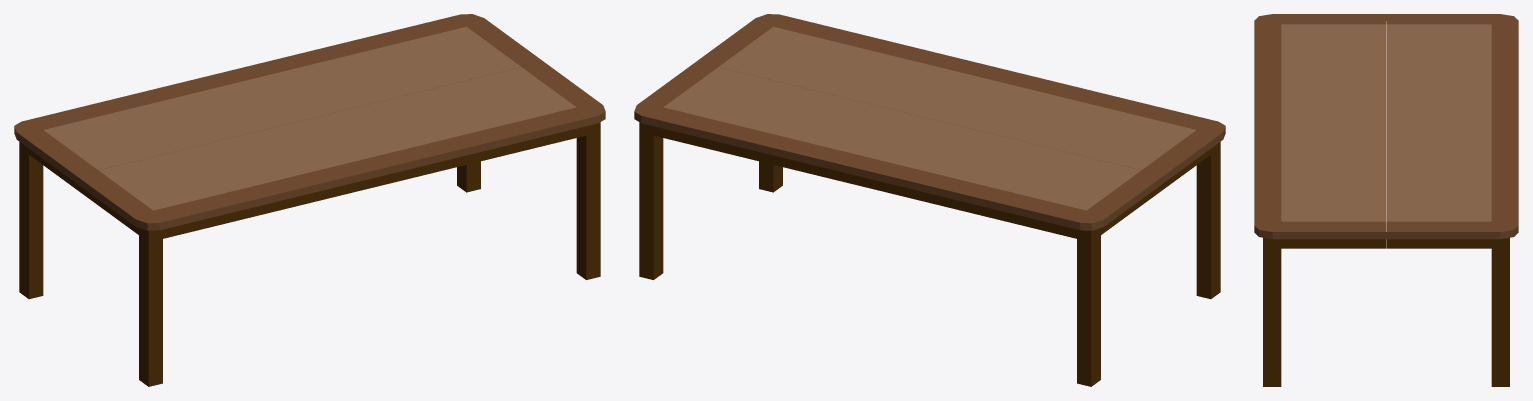
File: mesa.fbx
The picture shows the model from 3 angles, left to right: view 1: azimuth 30°, elevation 25°; view 2: azimuth 150°, elevation 25°; view 3: azimuth 270°, elevation 25°; orthographic projection. The views are drawn at different scales.
Parts seen in each view (by area): view 1: Table; view 2: Table; view 3: Table.
Part boxes in pixels (x1,y1,x2,y2): Table: (14, 14, 605, 386); Table: (634, 14, 1225, 386); Table: (1254, 14, 1518, 386).
Bounding box in the file's own units: 831 × 282 × 426.
